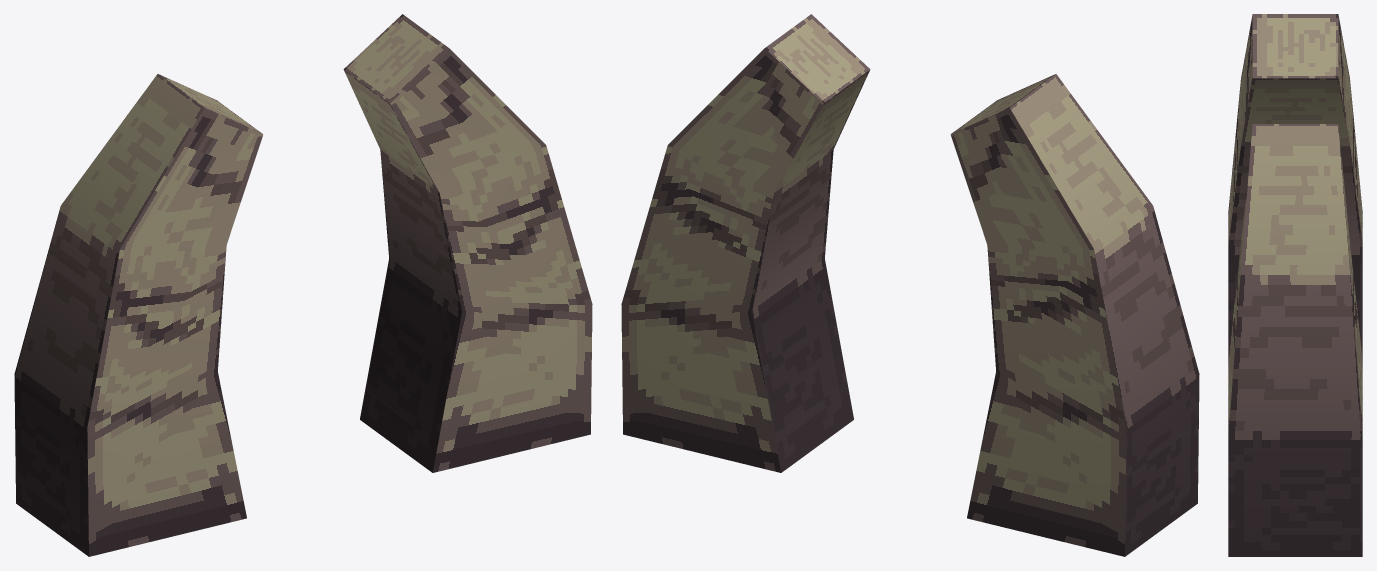
Rendered from gateway.FBX.
3 views of the same model, side by side, from view 1: azimuth 30°, elevation 25°; view 2: azimuth 150°, elevation 25°; view 3: azimuth 270°, elevation 25° (orthographic). The views are drawn at different scales.
Parts seen in each view (by area): view 1: Box003; view 2: Box003; view 3: Box003.
Boxes of the visible parts, x1,y1,x2,y2 form: Box003: (14,14,592,556); Box003: (621,14,1199,556); Box003: (1228,14,1362,556).
Size of the model in its own units: 89.26 by 68.92 by 22.33.
